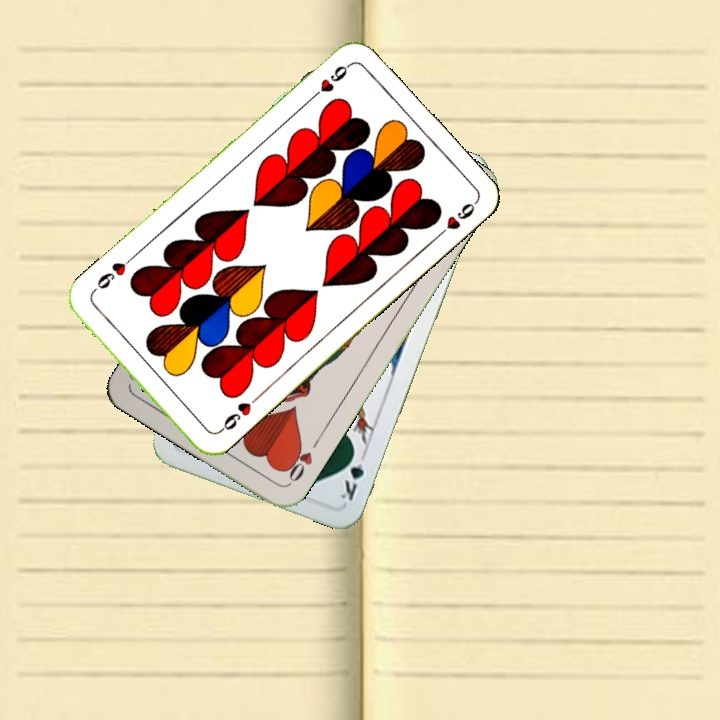GK: (336, 446, 369, 504)
H9: (305, 59, 353, 104), (213, 392, 262, 436)
HO: (280, 434, 323, 487)
